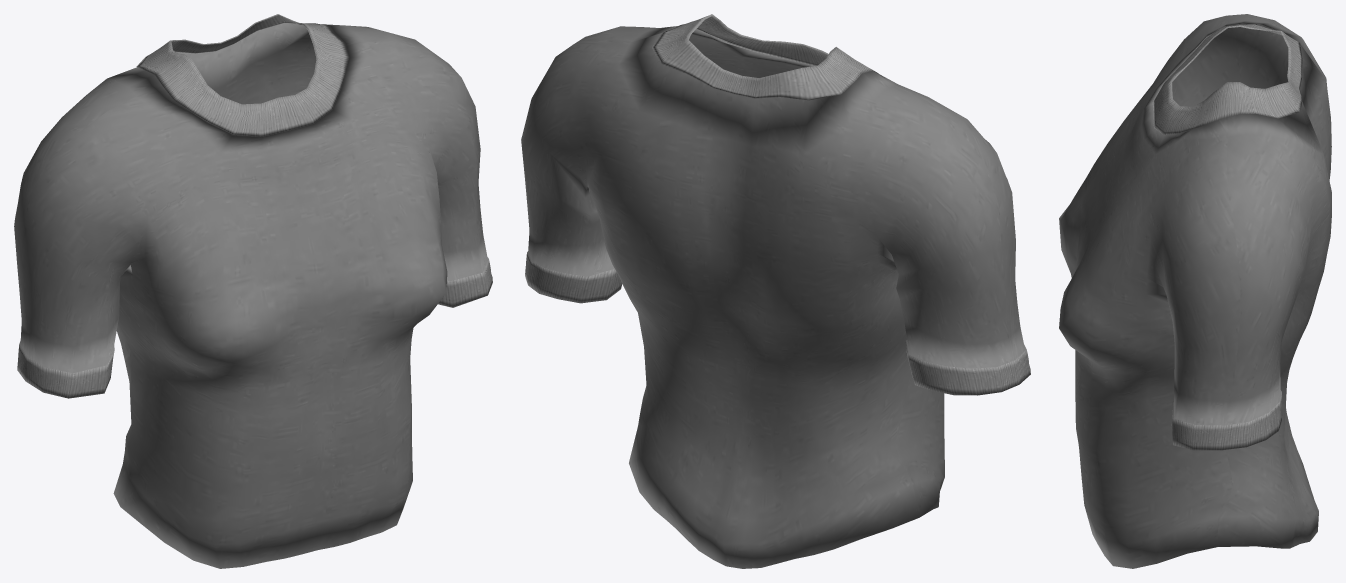
The model's file is toigo-basic-tucked-t-shirt.glb.
3 renders of one model, left to right at view 1: azimuth 30°, elevation 25°; view 2: azimuth 150°, elevation 25°; view 3: azimuth 270°, elevation 25°, orthographic. The views are drawn at different scales.
Visible parts, largest first — view 1: Human.toigo_basic_tucked_t-shirt; view 2: Human.toigo_basic_tucked_t-shirt; view 3: Human.toigo_basic_tucked_t-shirt.
Boxes of the visible parts, x1,y1,x2,y2 form: Human.toigo_basic_tucked_t-shirt: (14, 14, 492, 568); Human.toigo_basic_tucked_t-shirt: (521, 14, 1030, 568); Human.toigo_basic_tucked_t-shirt: (1059, 14, 1331, 568).
Size of the model in its own units: 0.4527 by 0.4484 by 0.2315.
Materials: 1 (1 with a texture image).
